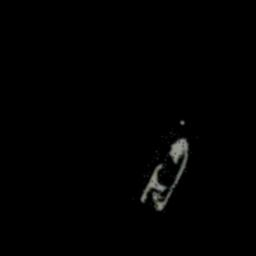boat: (131, 124, 201, 218)
